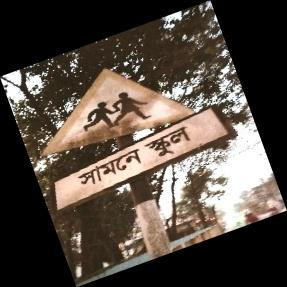School-in-front: (43, 68, 234, 213)
